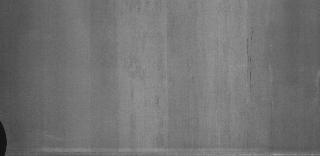welding line: (6, 150, 320, 156)
